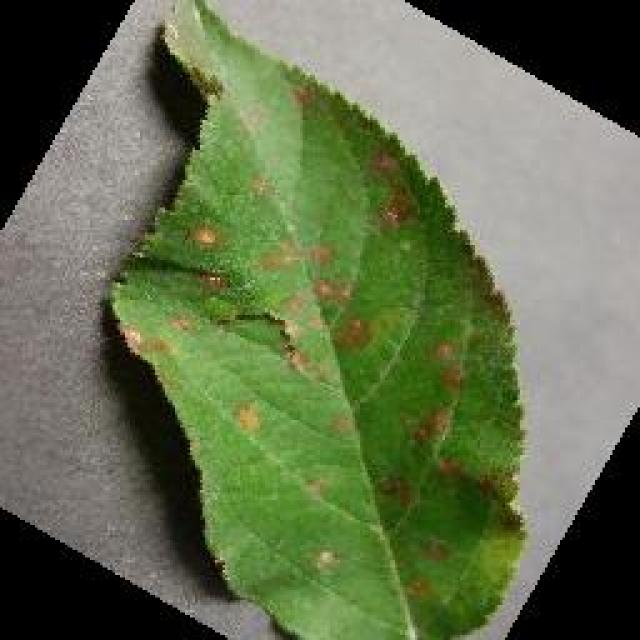apple cedar apple rust: (102, 0, 530, 638)
